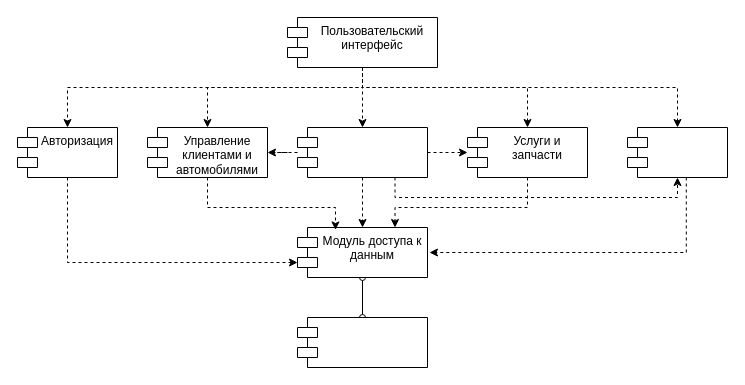
This 745x385 diagram has some shape labels left out. The centre of each missing label's shape, as x and y in pixels:
"База данных PostgreSQL" goes at point (362, 342).
"Отчеты" goes at point (677, 152).
"Управление заказ-нарядами" goes at point (362, 152).
